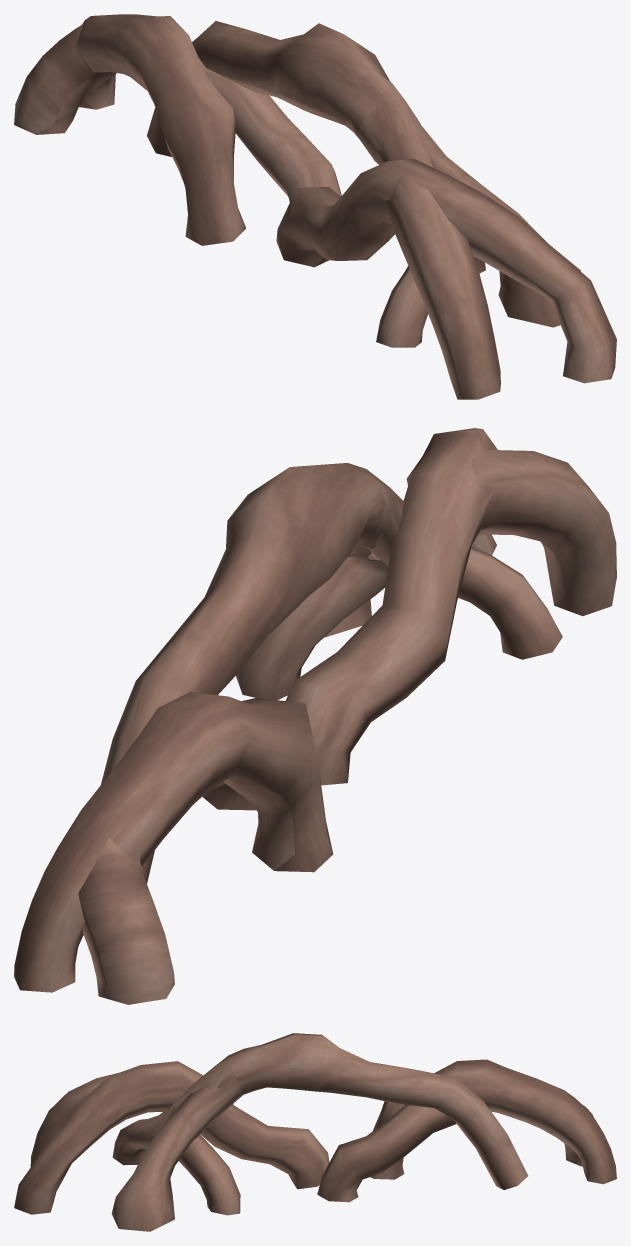
Rendered from Root fences.fbx.
3 renders of one model, top to bottom at view 1: azimuth 30°, elevation 25°; view 2: azimuth 150°, elevation 25°; view 3: azimuth 270°, elevation 25°, orthographic. The views are drawn at different scales.
Visible parts, largest first — view 1: RootFench; view 2: RootFench; view 3: RootFench.
Boxes of the visible parts, x1,y1,x2,y2 form: RootFench: [14, 14, 616, 399]; RootFench: [14, 428, 616, 1004]; RootFench: [14, 1033, 616, 1231].
Size of the model in its own units: 128 by 114 by 383.
